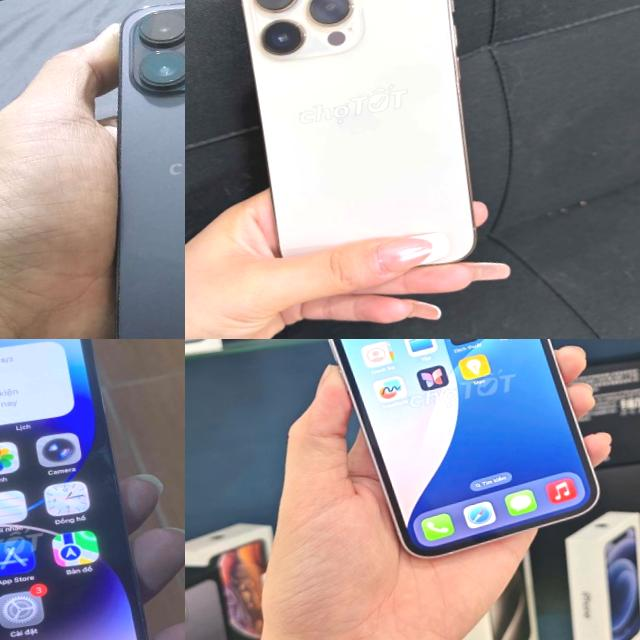gen_14: (222, 0, 497, 321), (291, 339, 606, 574), (0, 339, 177, 640), (45, 0, 185, 339)
